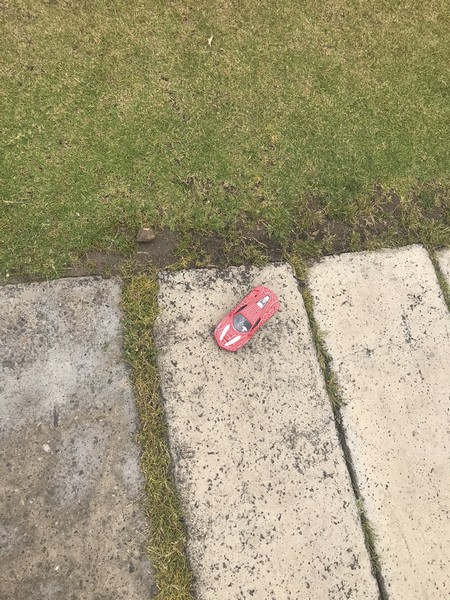RC: (213, 283, 281, 354)
